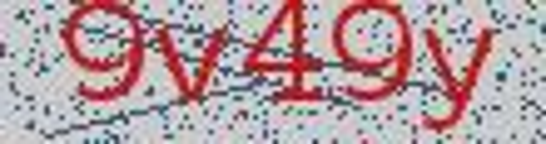4: (238, 2, 327, 112)
9: (51, 1, 150, 101), (331, 1, 417, 106)
v: (153, 15, 228, 105)
y: (418, 18, 495, 133)
